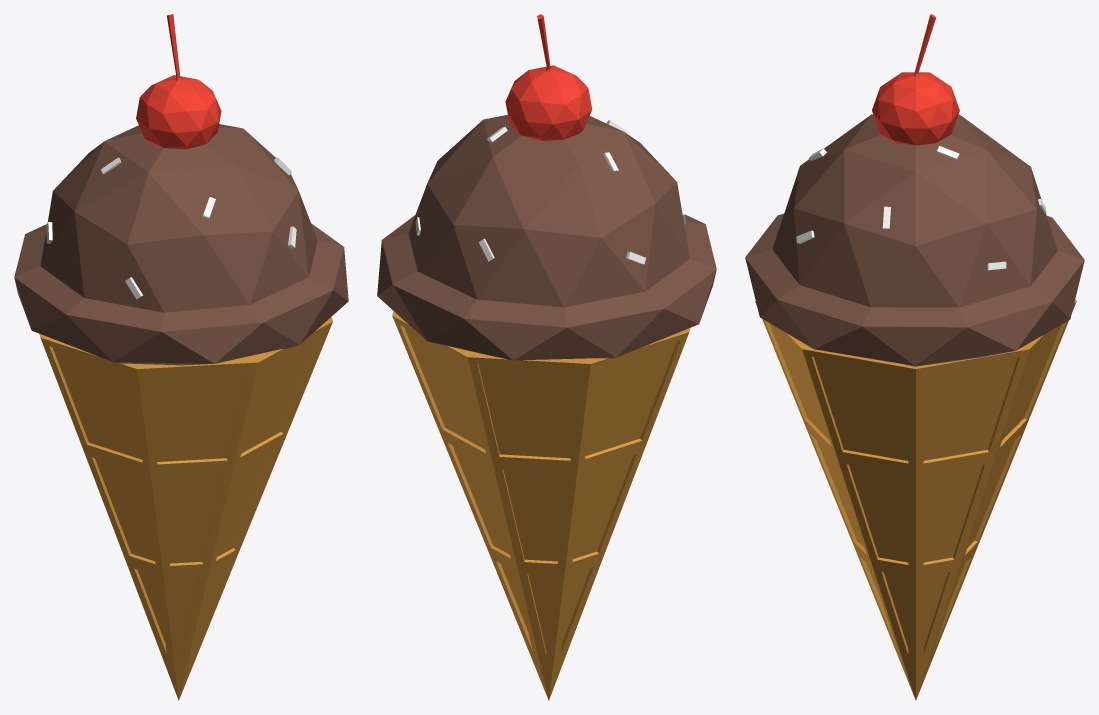
Rendered from ice-cream.glb.
3 renders of one model, left to right at view 1: azimuth 30°, elevation 25°; view 2: azimuth 150°, elevation 25°; view 3: azimuth 270°, elevation 25°, orthographic.
Visible parts, largest first — view 1: Circle; view 2: Circle; view 3: Circle.
Boxes of the visible parts, left/top/right/bottom form: Circle: left=14, top=14, right=348, bottom=700; Circle: left=377, top=14, right=716, bottom=700; Circle: left=745, top=14, right=1084, bottom=700.
Bounding box in the file's own units: 4.52 × 10.21 × 4.58.
